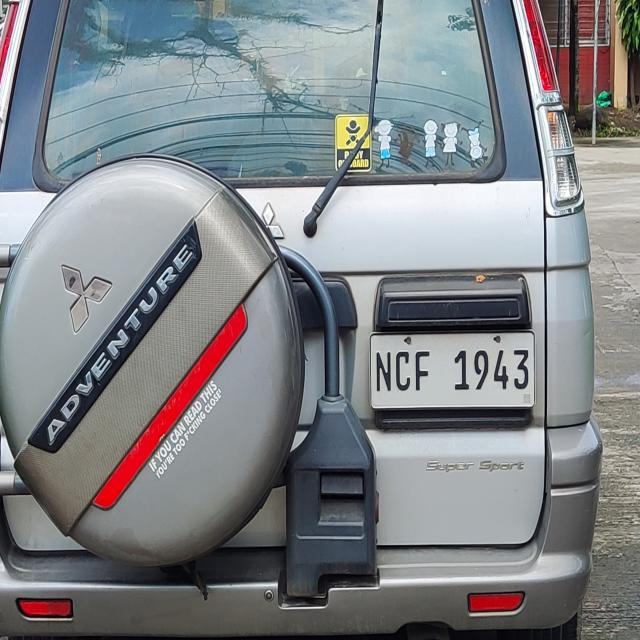plate: (368, 331, 538, 411)
